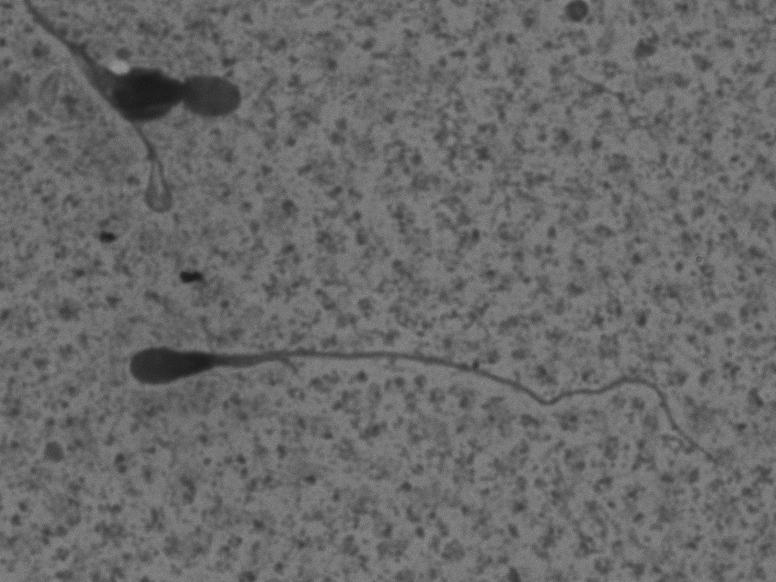Abnormal: (99, 309, 733, 476), (14, 10, 194, 218)
